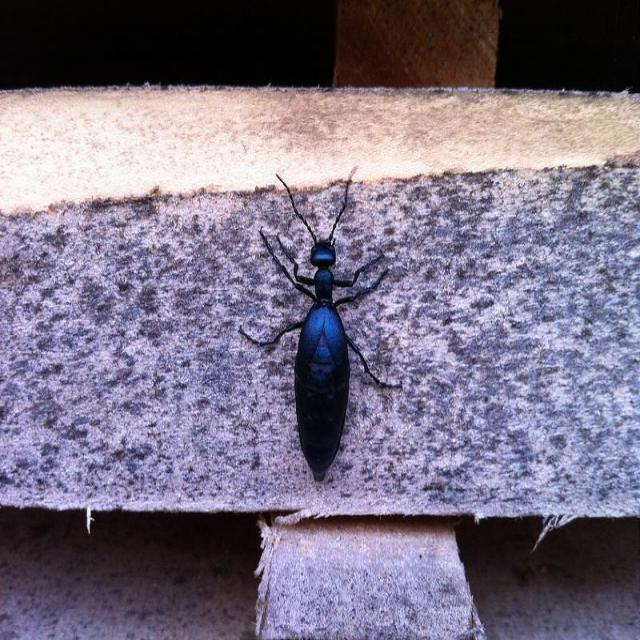BlisterBeetle-Adult-: (256, 152, 404, 494)
